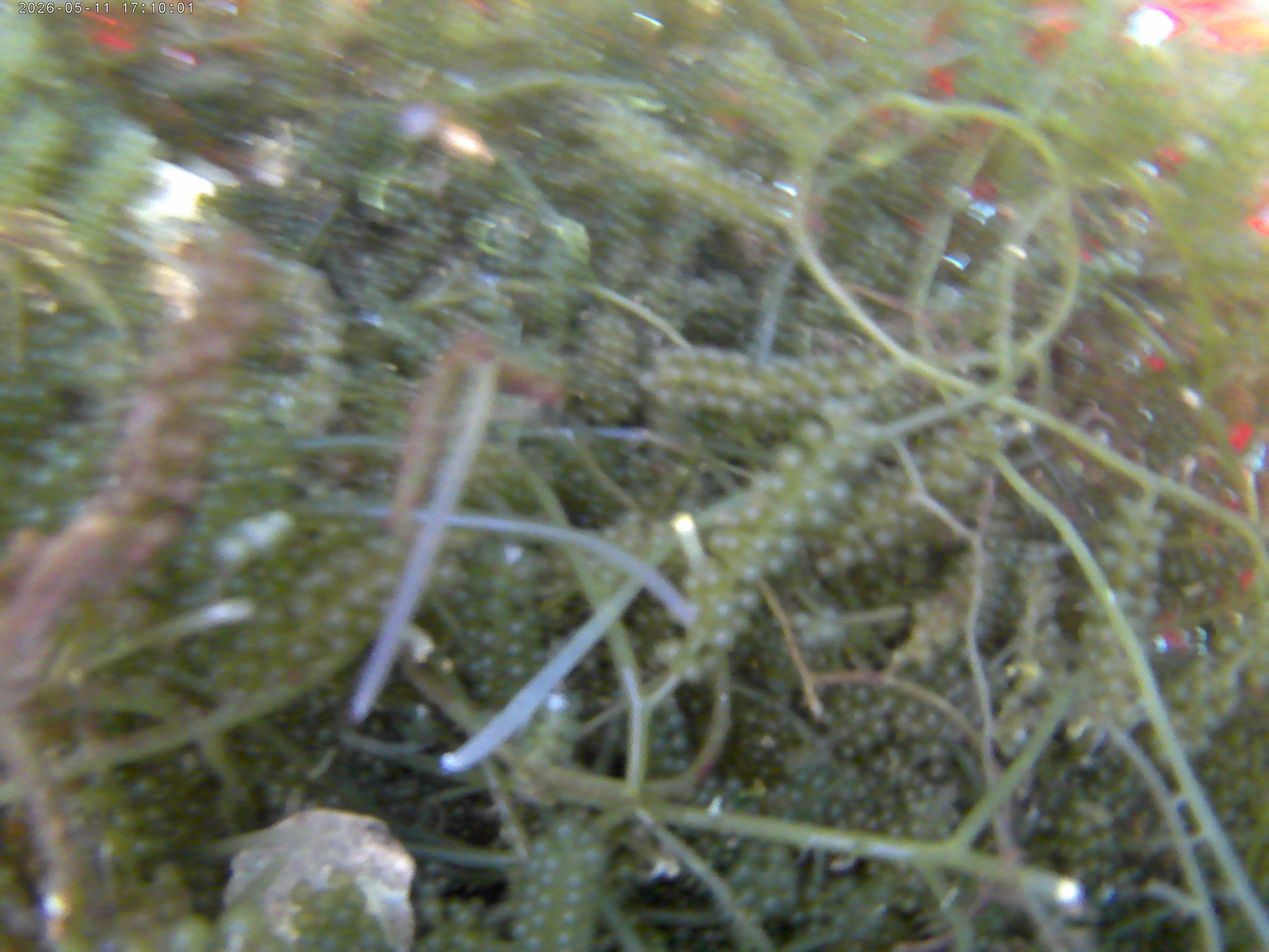Darkening: (837, 744, 857, 762), (929, 762, 947, 780), (688, 699, 704, 714)
Harvestable: (346, 585, 376, 615), (60, 450, 90, 477), (262, 608, 290, 635), (258, 634, 287, 660), (325, 609, 355, 634), (799, 420, 826, 447), (1115, 560, 1141, 588), (27, 502, 55, 527), (780, 448, 804, 476), (711, 370, 736, 396), (294, 596, 321, 620), (657, 638, 682, 663), (288, 645, 314, 669), (827, 478, 851, 503), (35, 466, 60, 490), (904, 560, 929, 584), (354, 615, 380, 638), (708, 629, 736, 650), (1199, 707, 1223, 731), (740, 507, 763, 532), (726, 353, 751, 376), (878, 691, 901, 716), (794, 388, 817, 413), (229, 574, 255, 596), (680, 659, 703, 683), (777, 532, 801, 555), (764, 393, 787, 417), (1169, 682, 1192, 706), (701, 561, 726, 583), (698, 348, 723, 370), (738, 378, 763, 400), (238, 663, 263, 685), (1151, 508, 1173, 533), (291, 879, 313, 903), (1215, 632, 1239, 654), (133, 775, 158, 796), (1140, 551, 1162, 574), (486, 598, 509, 620), (421, 898, 444, 920), (273, 563, 296, 585), (1247, 667, 1269, 690), (683, 574, 704, 598), (817, 452, 841, 473), (294, 934, 321, 952), (723, 536, 745, 558), (754, 360, 776, 382), (481, 655, 503, 677), (1092, 807, 1114, 829), (1097, 656, 1119, 678), (1138, 596, 1160, 618), (28, 382, 50, 404), (233, 634, 256, 655), (833, 548, 855, 569), (750, 535, 773, 555), (677, 393, 700, 413), (321, 932, 344, 952), (1117, 494, 1137, 517), (688, 367, 709, 388), (1143, 527, 1164, 548), (506, 638, 527, 659), (565, 868, 586, 889), (761, 894, 782, 915), (491, 573, 512, 594), (738, 589, 759, 610), (723, 399, 745, 419), (1109, 522, 1129, 544), (558, 907, 580, 927), (294, 911, 316, 931), (763, 557, 786, 576), (544, 850, 563, 873), (1074, 819, 1094, 840), (713, 600, 734, 620), (848, 349, 868, 370), (741, 562, 761, 583), (846, 455, 868, 474), (701, 393, 723, 412), (362, 933, 385, 951), (840, 523, 860, 543), (873, 528, 893, 548), (808, 534, 828, 554), (220, 470, 240, 490), (912, 600, 932, 620), (638, 372, 659, 391), (849, 707, 868, 728), (833, 430, 854, 449), (314, 894, 335, 913), (729, 616, 752, 633), (652, 348, 672, 367), (673, 346, 693, 365), (852, 688, 871, 708), (922, 712, 941, 732), (815, 557, 835, 576), (529, 910, 548, 930), (883, 551, 902, 571), (1084, 835, 1103, 855), (809, 508, 830, 526), (768, 479, 789, 497), (556, 926, 574, 947), (900, 703, 921, 721), (861, 566, 880, 585), (556, 821, 575, 840), (224, 433, 243, 452), (508, 618, 527, 637), (803, 486, 821, 506), (525, 933, 545, 951), (665, 367, 685, 385), (778, 378, 798, 396), (482, 633, 502, 651), (856, 731, 874, 751), (564, 889, 584, 907), (334, 906, 354, 924), (701, 653, 719, 672), (656, 390, 675, 408), (1058, 816, 1076, 835), (1107, 677, 1125, 696), (1097, 696, 1115, 715), (778, 508, 795, 528), (508, 661, 528, 678), (523, 878, 539, 899), (1099, 548, 1117, 566), (668, 712, 686, 730), (870, 720, 888, 738), (857, 545, 875, 563), (345, 520, 363, 538), (808, 902, 826, 920), (1068, 845, 1086, 863), (804, 884, 822, 902), (585, 852, 604, 869), (670, 734, 689, 751), (860, 425, 876, 445), (509, 923, 529, 939), (834, 697, 852, 714), (902, 514, 919, 532), (267, 793, 285, 810), (781, 889, 798, 907), (808, 801, 826, 818), (539, 889, 554, 909), (650, 738, 667, 755), (726, 776, 743, 793), (787, 788, 805, 804), (809, 776, 827, 792), (711, 535, 727, 552), (517, 900, 534, 916), (1086, 858, 1103, 874), (794, 770, 811, 786), (829, 803, 846, 819), (703, 776, 720, 792), (267, 781, 285, 796), (533, 839, 549, 855), (317, 726, 333, 742), (526, 857, 540, 875), (756, 476, 772, 491), (539, 872, 555, 887), (790, 908, 805, 924), (1039, 815, 1054, 831), (921, 783, 936, 798), (579, 833, 593, 849), (694, 790, 710, 804)
